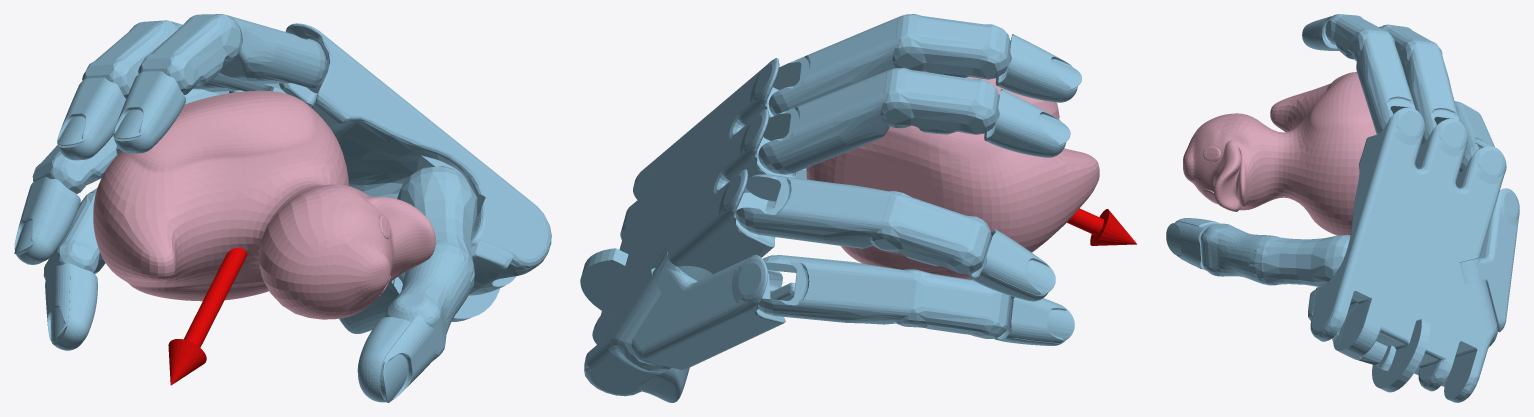
3 renders of one model, left to right at view 1: azimuth 30°, elevation 25°; view 2: azimuth 150°, elevation 25°; view 3: azimuth 270°, elevation 25°, orthographic. The views are drawn at different scales.
Parts seen in each view (by area): view 1: world, rubber_duck.stl; view 2: world, rubber_duck.stl; view 3: world, rubber_duck.stl.
Part boxes in pixels (x1,y1,x2,y2): world: [14, 14, 551, 402]; rubber_duck.stl: [93, 90, 435, 319]; world: [580, 14, 1136, 402]; rubber_duck.stl: [806, 71, 1099, 279]; world: [1166, 14, 1519, 402]; rubber_duck.stl: [1183, 72, 1376, 235].
Size of the model in its own units: 0.1768 by 0.1418 by 0.1574.
